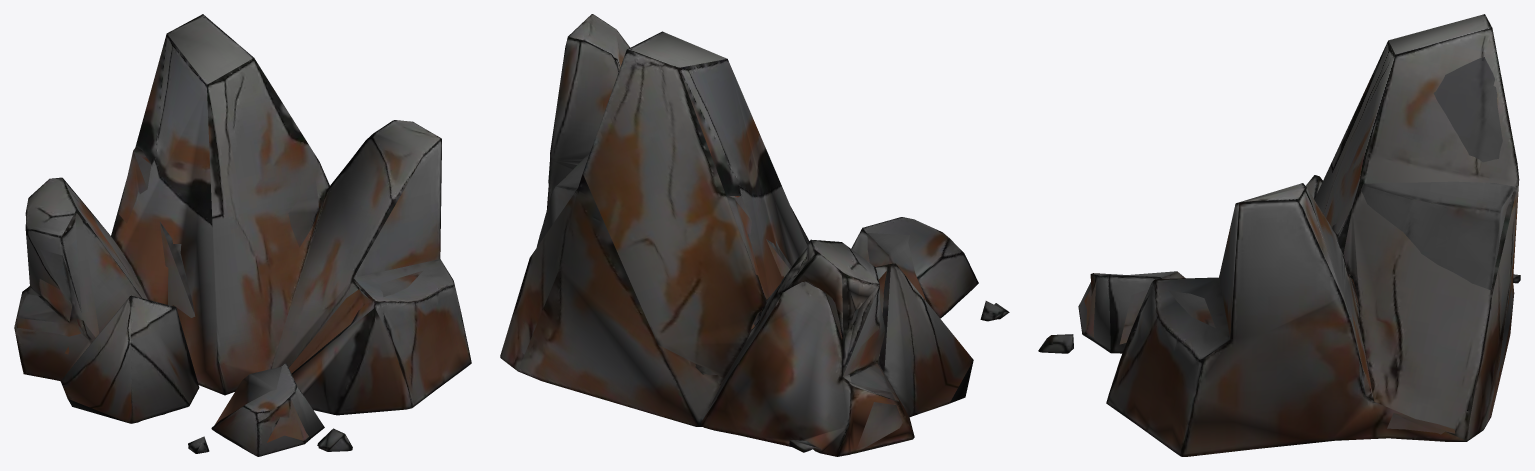
Rendered from iron.glb.
3 views of the same model, side by side, from view 1: azimuth 30°, elevation 25°; view 2: azimuth 150°, elevation 25°; view 3: azimuth 270°, elevation 25° (orthographic). The views are drawn at different scales.
Visible parts, largest first — view 1: world; view 2: world; view 3: world.
Boxes of the visible parts, x1=… form: world: x1=14, y1=14, x2=471, y2=456; world: x1=500, y1=14, x2=1009, y2=456; world: x1=1038, y1=14, x2=1520, y2=456.
Bounding box in the file's own units: 0.9968 × 0.7975 × 0.9984.
1 material, 1 textured.
